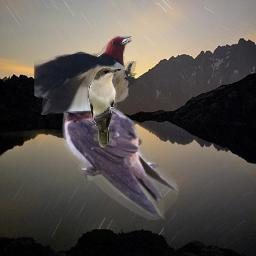Cuckoo: (88, 67, 122, 148)
Swallow: (61, 95, 179, 220)
Woodpecker: (34, 32, 141, 115)
